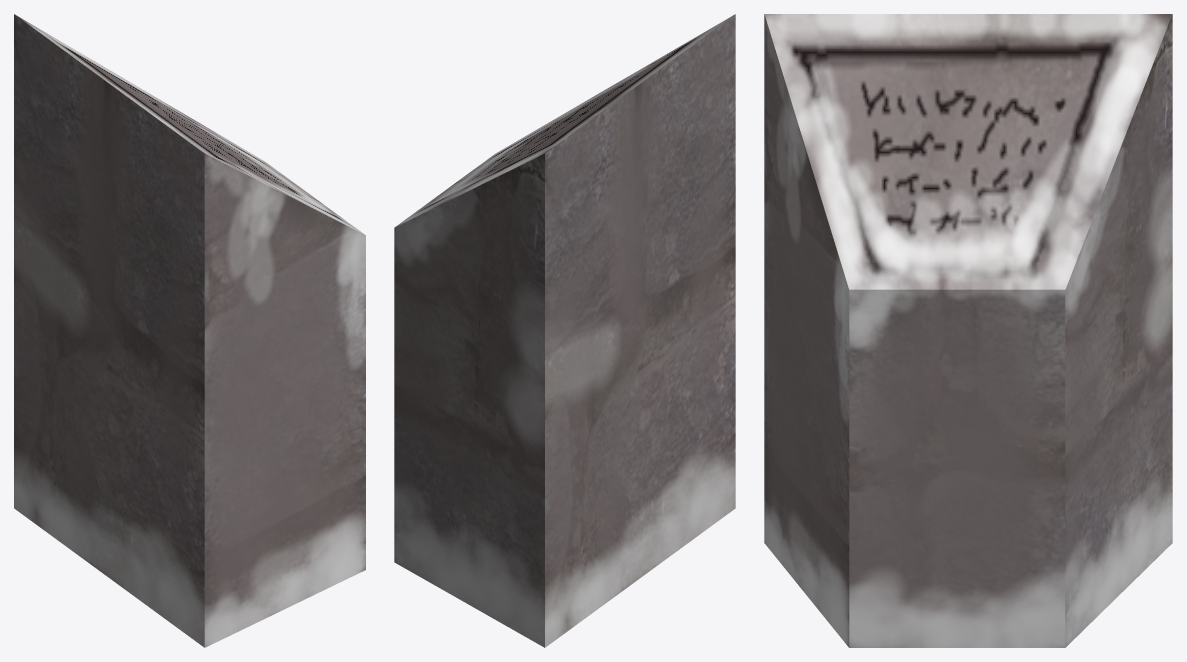
File: stone.glb
The picture shows the model from 3 angles, left to right: view 1: azimuth 30°, elevation 25°; view 2: azimuth 150°, elevation 25°; view 3: azimuth 270°, elevation 25°; orthographic projection. The views are drawn at different scales.
Visible parts, largest first — view 1: Stone; view 2: Stone; view 3: Stone.
Part boxes in pixels (<box>): Stone: <box>14,14,365,647</box>; Stone: <box>394,14,735,647</box>; Stone: <box>764,14,1172,647</box>.
Size of the model in its own units: 0.8977 by 2.11 by 1.48.
Materials: 1 (1 with a texture image).
